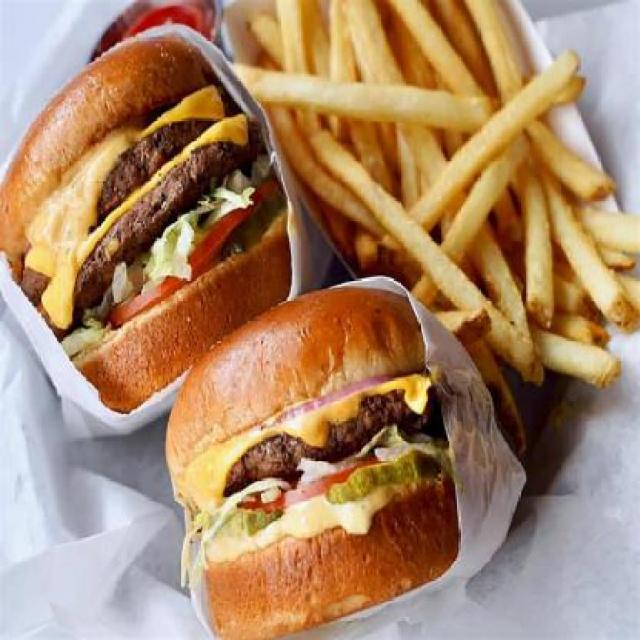hamburger: (165, 281, 480, 639)
